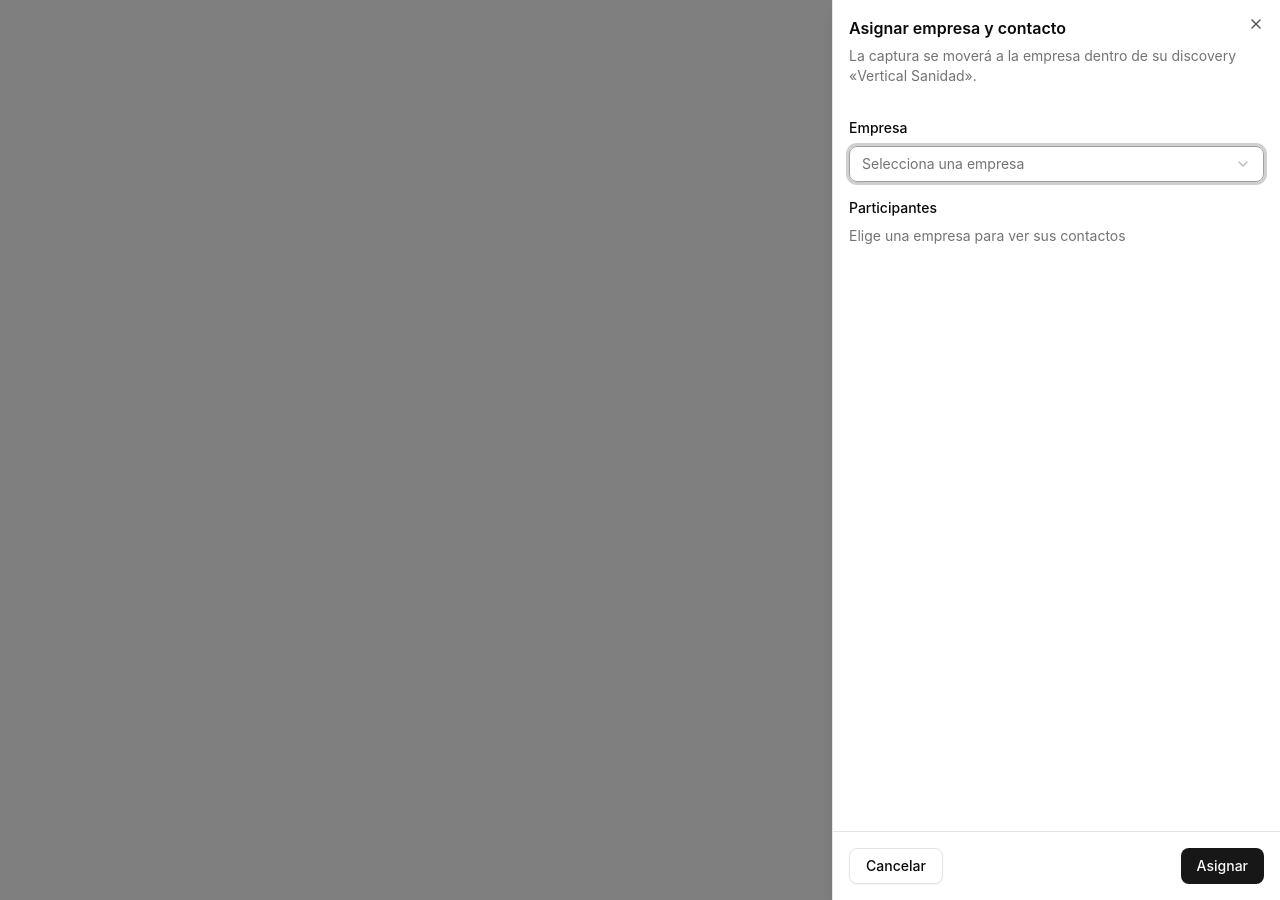
Scenario: AssignCompanySheet › shows the inline Nombre/Posición/LinkedIn fields when the "+ Nuevo contacto" checkbox is checked
Click the dropdown labelled "empresa": (943,164) [849,146,1264,182]
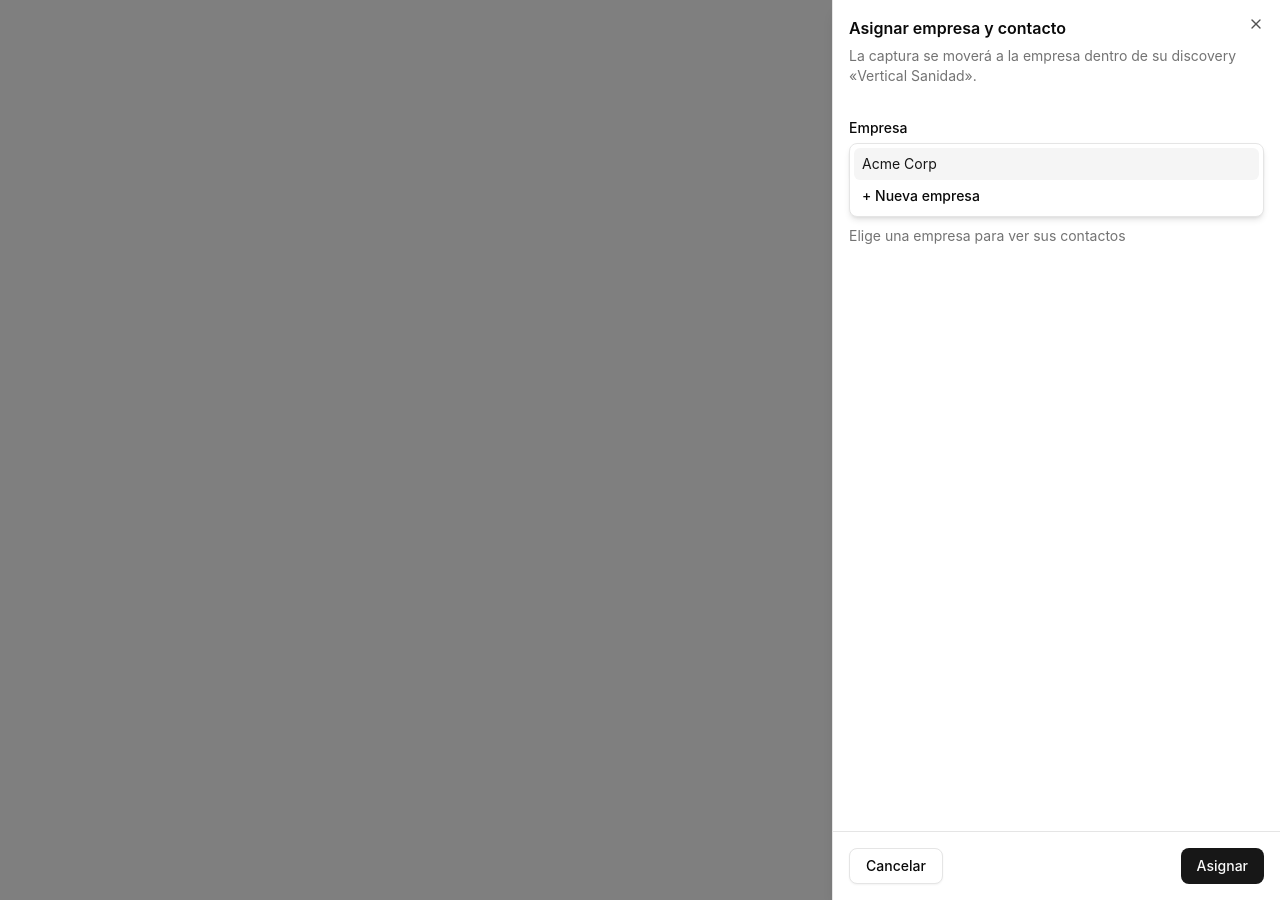
Click the option "Acme Corp": (899,164) [854,148,1259,180]
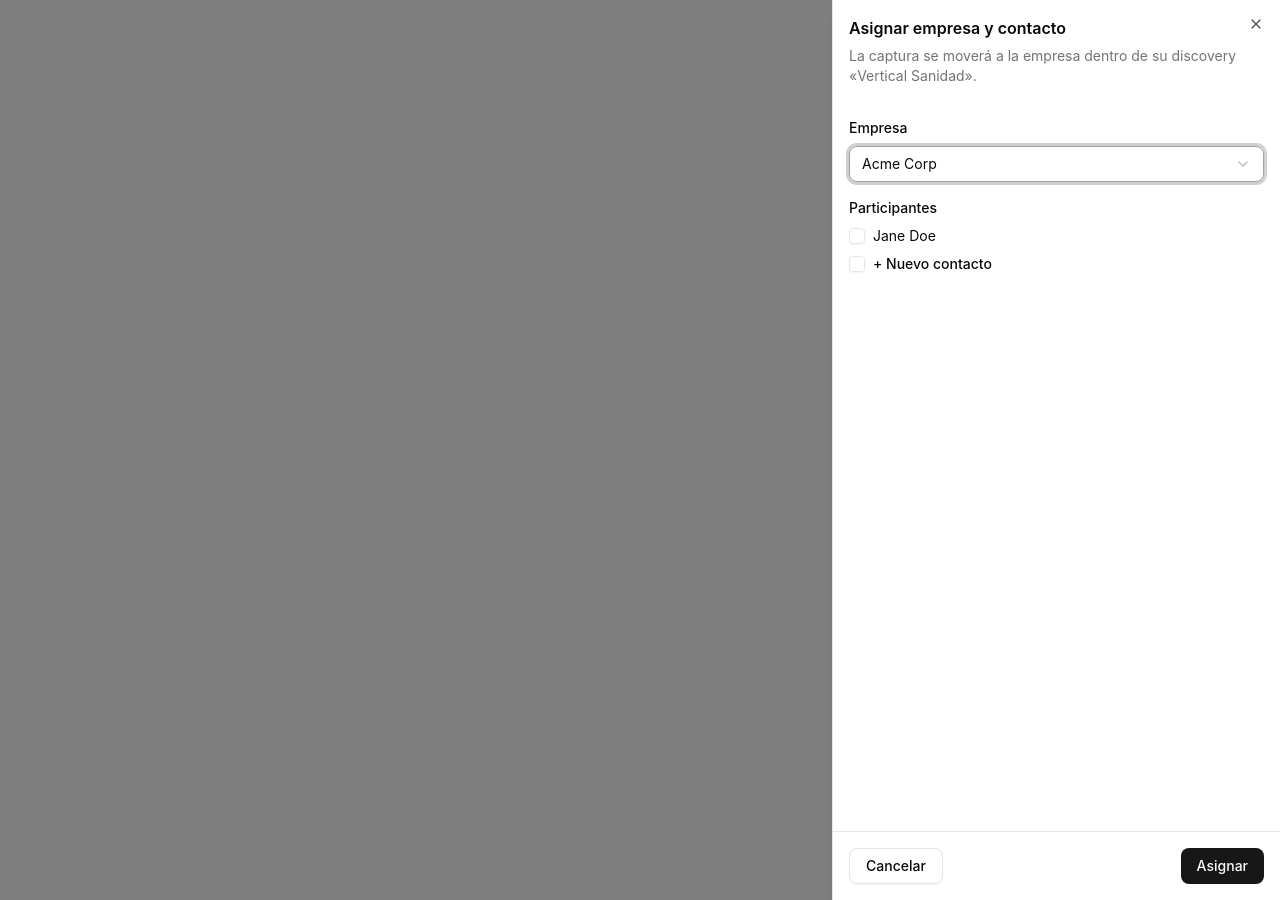
Click the checkbox named "+ Nuevo contacto" next to "+ Nuevo contacto": (857,264) [849,256,865,272]
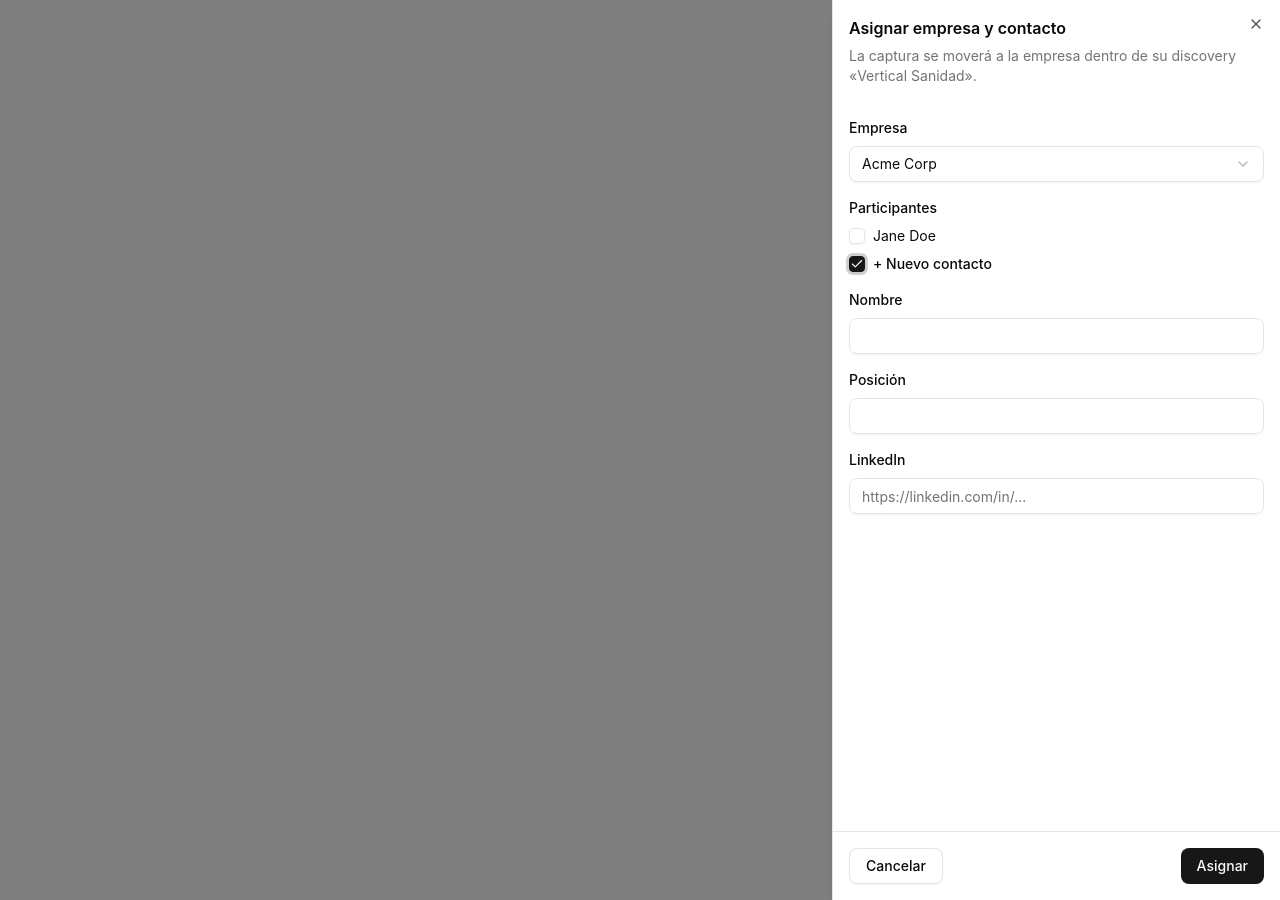
Result: the field labelled "Nombre" is shown at [849,318,1264,354]
Result: the field labelled "Posición" is shown at [849,398,1264,434]
Result: the field labelled "LinkedIn" is shown at [849,478,1264,514]
